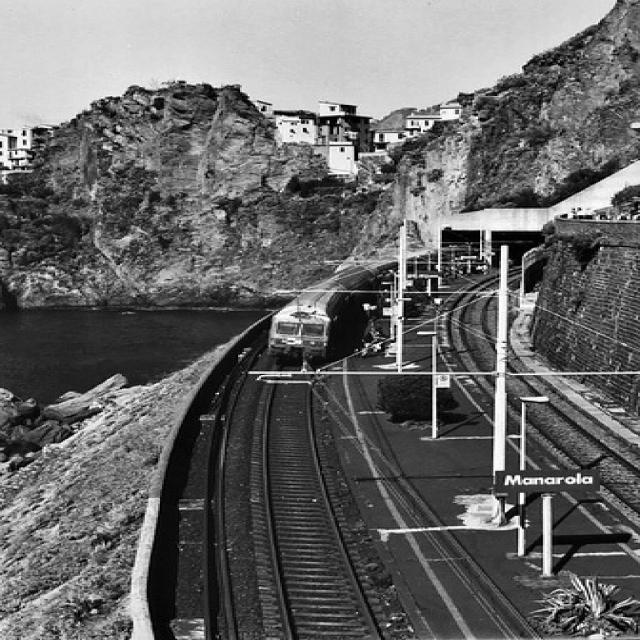train: (270, 244, 474, 358)
